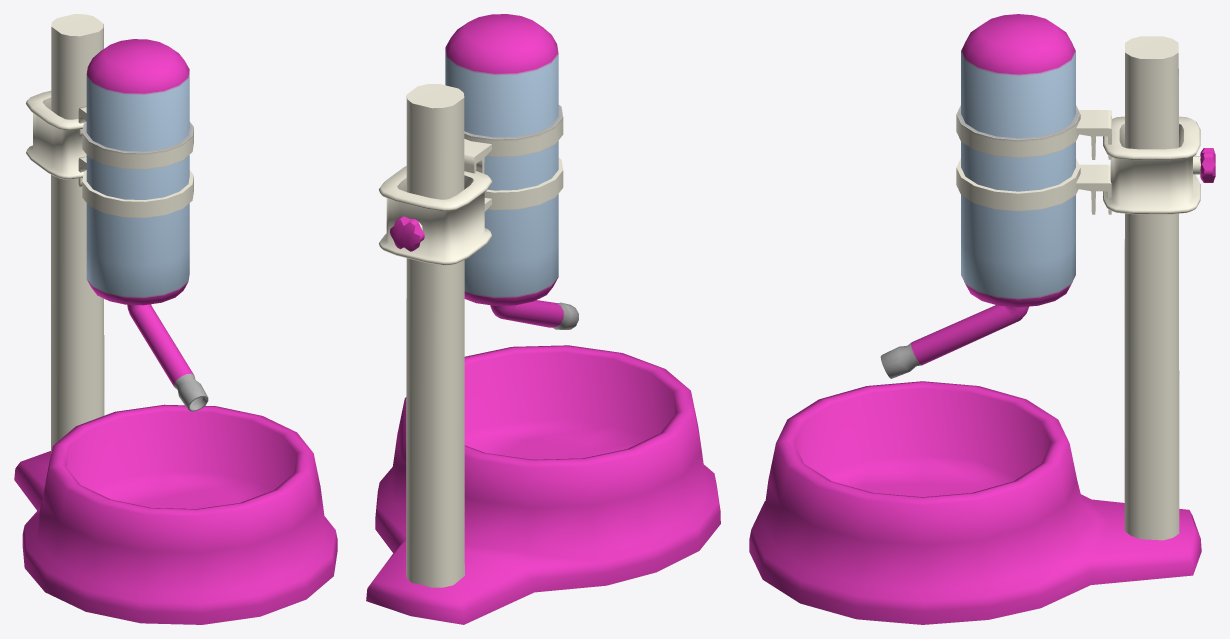
The model's file is team water supply.fbx.
3 views of the same model, side by side, from view 1: azimuth 30°, elevation 25°; view 2: azimuth 150°, elevation 25°; view 3: azimuth 270°, elevation 25° (orthographic). The views are drawn at different scales.
Parts seen in each view (by area): view 1: water supply; view 2: water supply; view 3: water supply.
Part boxes in pixels (box(x1,y1,x2,y2)): water supply: box(14, 14, 337, 624); water supply: box(366, 14, 720, 624); water supply: box(749, 14, 1215, 624).
Bounding box in the file's own units: 145 × 242 × 195.
Materials: 1 (1 with a texture image).
